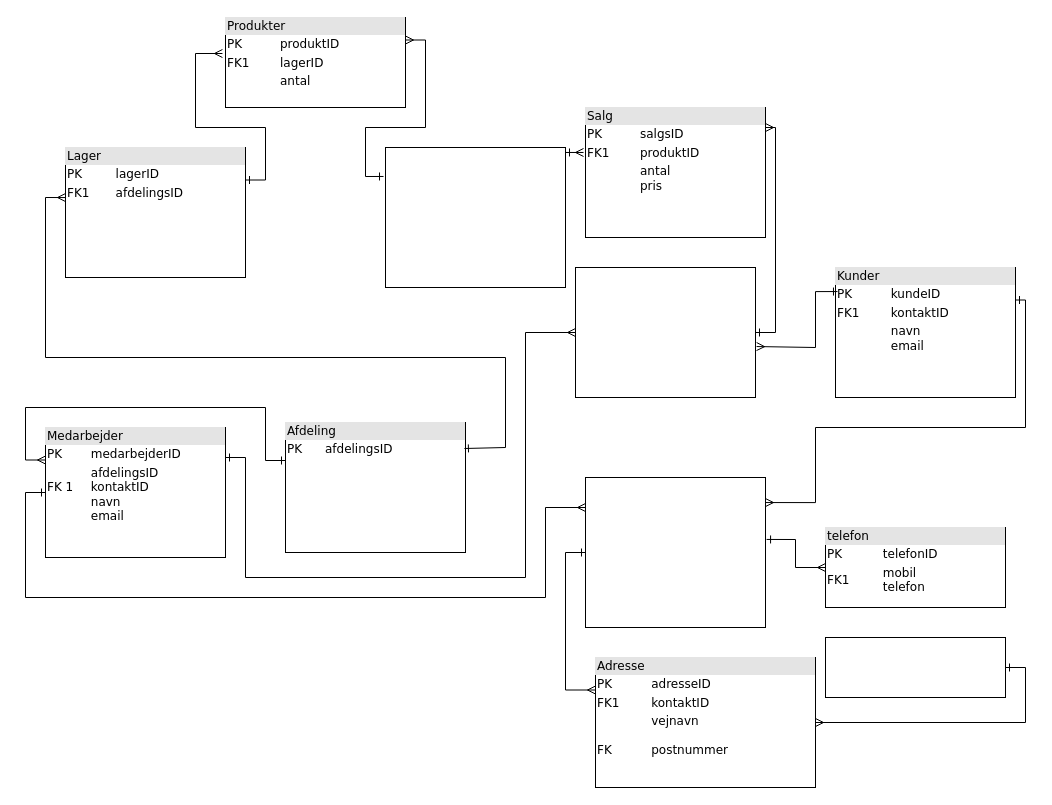
Image size: 1052x805. Some labels were removed from this diagram. The shapes that lost their labels are listed below. From the top down, each one's box as (x1, y1, x2, y2) in pixels, then its label:
(384, 146, 566, 288): Produkter PK produktID FK kategoriID FK producentID beskrivelse ind_pris Ud_pris
(574, 266, 756, 398): Ordre PK ordreID FK1 medarbejderID FK salgsID kundeID bestillingsdato
(584, 476, 766, 628): kontakt PK kontaktID FK1 adresseID FK telefonID
(824, 636, 1006, 698): Postnummer PK postnummer FK1 by
